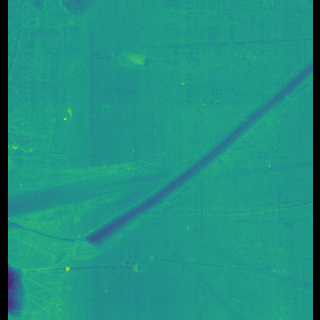Loch: (61, 35, 305, 268), (15, 0, 85, 320), (14, 154, 174, 230), (149, 252, 308, 295), (114, 40, 158, 75)
